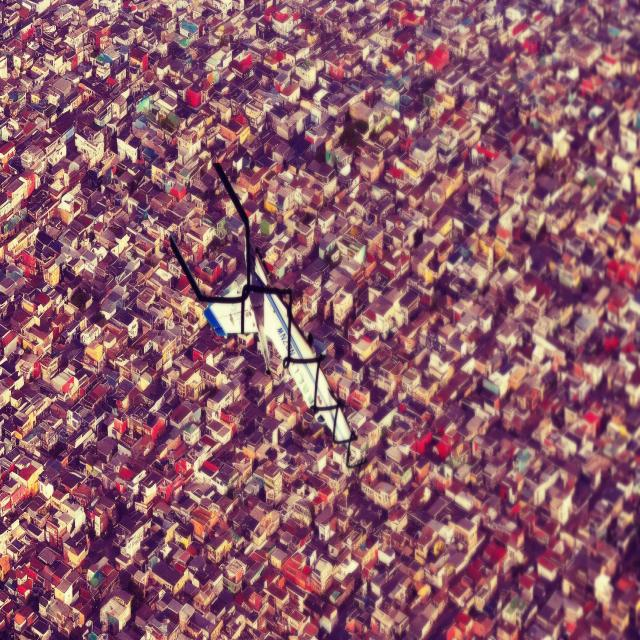airplane: (168, 158, 352, 466)
